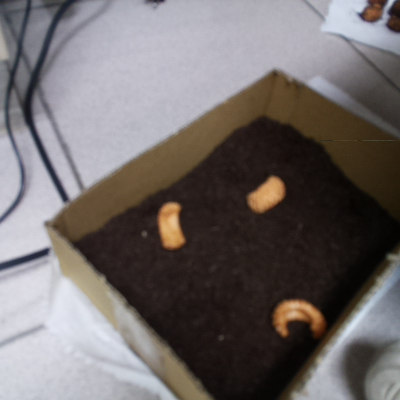eggs: (268, 294, 328, 341), (155, 197, 189, 252), (245, 171, 288, 214)
